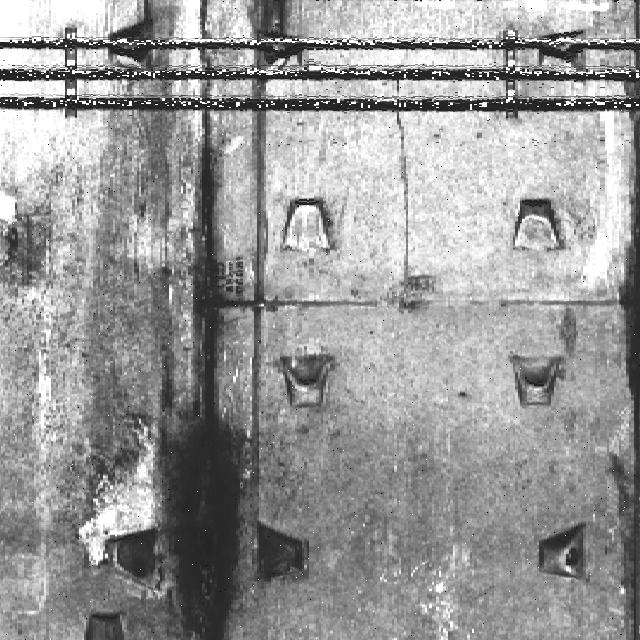leakage: (148, 147, 265, 640)
